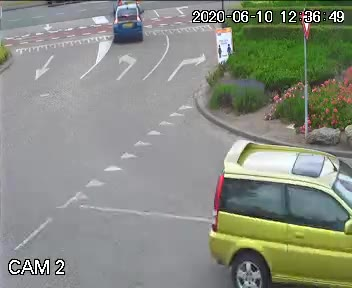car: (197, 132, 352, 288), (113, 2, 141, 49)
